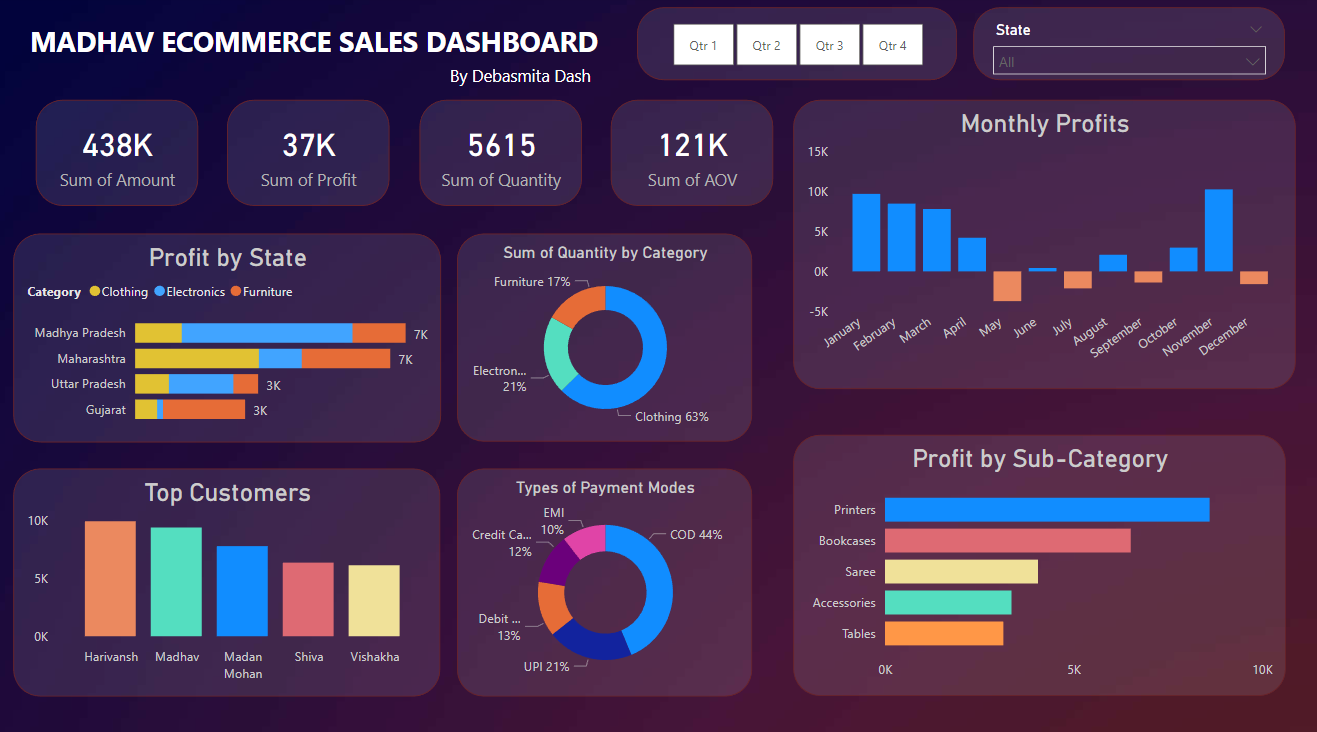

This screenshot's page, from the dashboard's own definition file:
{"tool":"powerbi","page":{"name":"Page 1","canvas":[1280,720],"ordinal":0},"visuals":[{"type":"textbox","box":[15.7,20.5,580.1,51.9],"z":0},{"type":"columnChart","title":"Monthly Profits","fields":{"Category":["Orders.Order Date.Variation.Date Hierarchy.Month"],"Y":["Sum(Details.Profit)"]},"box":[767.8,99.9,484.4,279.3],"z":1000},{"type":"barChart","title":"Profit by Sub-Category","fields":{"Category":["Details.Sub-Category"],"Y":["Sum(Details.Profit)"]},"box":[767.8,423.7,475,252.3],"z":2000},{"type":"donutChart","fields":{"Category":["Details.Category"],"Y":["Sum(Details.Quantity)"]},"box":[443.9,229.4,284.7,201.1],"z":3000},{"type":"donutChart","title":"Types of Payment Modes","fields":{"Y":["Sum(Details.Quantity)"],"Category":["Details.PaymentMode"]},"box":[443.9,456.1,284.7,219.9],"z":4000},{"type":"card","fields":{"Values":["Sum(Details.Amount)"]},"box":[37.4,99.9,156.5,102.6],"z":5000},{"type":"card","fields":{"Values":["Sum(Details.Profit)"]},"box":[222.3,99.9,156.5,102.6],"z":6000},{"type":"card","fields":{"Values":["Sum(Details.Quantity)"]},"box":[407.2,99.9,156.5,102.6],"z":7000},{"type":"card","fields":{"Values":["Sum(Details.AOV)"]},"box":[592.4,99.9,156.5,102.6],"z":8000},{"type":"barChart","title":"Profit by State","fields":{"Category":["Orders.State"],"Y":["Sum(Details.Profit)"],"Series":["Details.Category"]},"box":[15.7,229.1,412.5,201.4],"z":9000},{"type":"columnChart","title":"Top Customers","fields":{"Category":["Orders.CustomerName"],"Y":["Sum(Details.Amount)"]},"box":[16,456,412,220],"z":10000},{"type":"slicer","fields":{"Values":["Orders.Order Date.Variation.Date Hierarchy.Quarter"]},"box":[618,10.8,309,70.2],"z":10001},{"type":"slicer","fields":{"Values":["Orders.State"]},"box":[941.9,10.8,300.9,70.2],"z":10002}]}

Visuals, with their boxes in screenshot pixels (x1, y1, x2, y2), scaled from the page's 1280x720 canvas onto the 1317x732 screenshot:
textbox: [x1=16, y1=21, x2=613, y2=74]
"Monthly Profits" columnChart: [x1=790, y1=102, x2=1288, y2=386]
"Profit by Sub-Category" barChart: [x1=790, y1=431, x2=1279, y2=687]
donutChart - Details.Category x Sum(Details.Quantity): [x1=457, y1=233, x2=750, y2=438]
"Types of Payment Modes" donutChart: [x1=457, y1=464, x2=750, y2=687]
card - Sum(Details.Amount): [x1=38, y1=102, x2=200, y2=206]
card - Sum(Details.Profit): [x1=229, y1=102, x2=390, y2=206]
card - Sum(Details.Quantity): [x1=419, y1=102, x2=580, y2=206]
card - Sum(Details.AOV): [x1=610, y1=102, x2=771, y2=206]
"Profit by State" barChart: [x1=16, y1=233, x2=441, y2=438]
"Top Customers" columnChart: [x1=16, y1=464, x2=440, y2=687]
slicer - Orders.Order Date.Variation.Date Hierarchy.Quarter: [x1=636, y1=11, x2=954, y2=82]
slicer - Orders.State: [x1=969, y1=11, x2=1279, y2=82]
